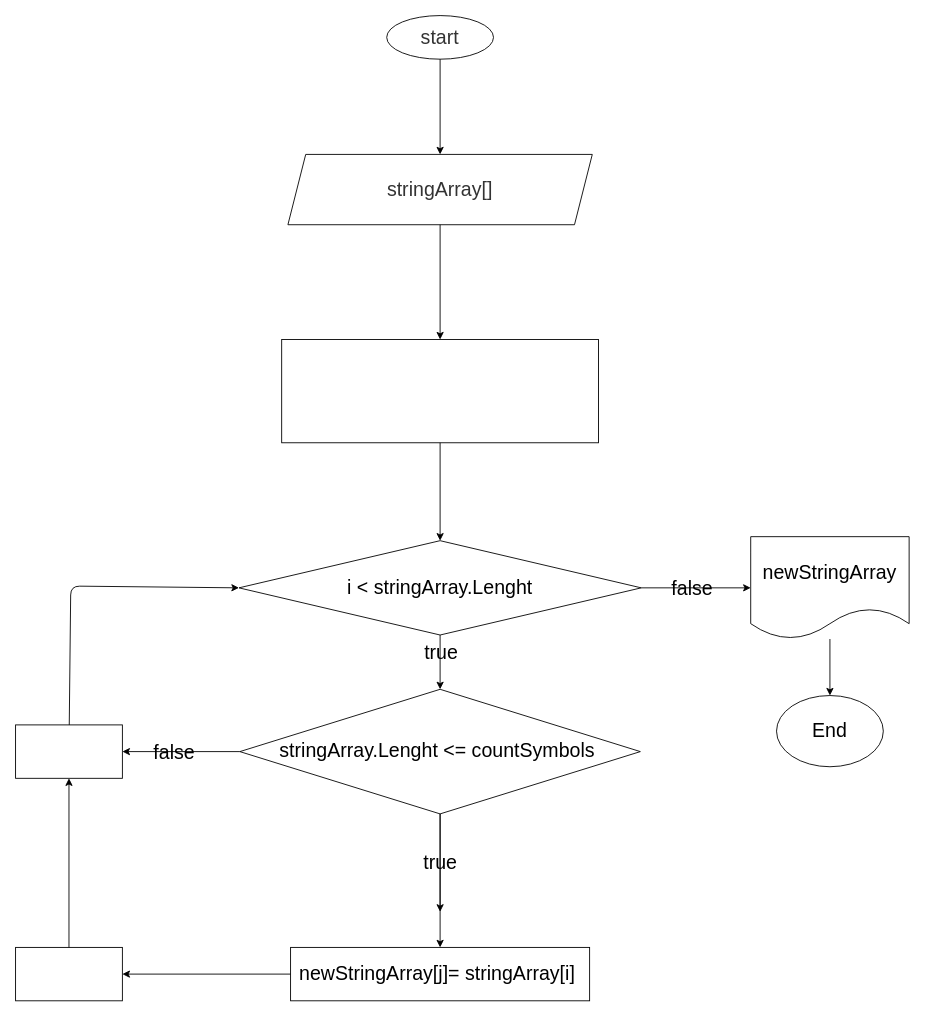
This 925x1016 diagram has some shape labels left out. Each missing label, with the centre of its shape:
"i ++" goes at [68,751].
"j ++" goes at [68,974].
"newStringArray[] countSymbols = 3 i = 0 j = 0" goes at [440,391].
